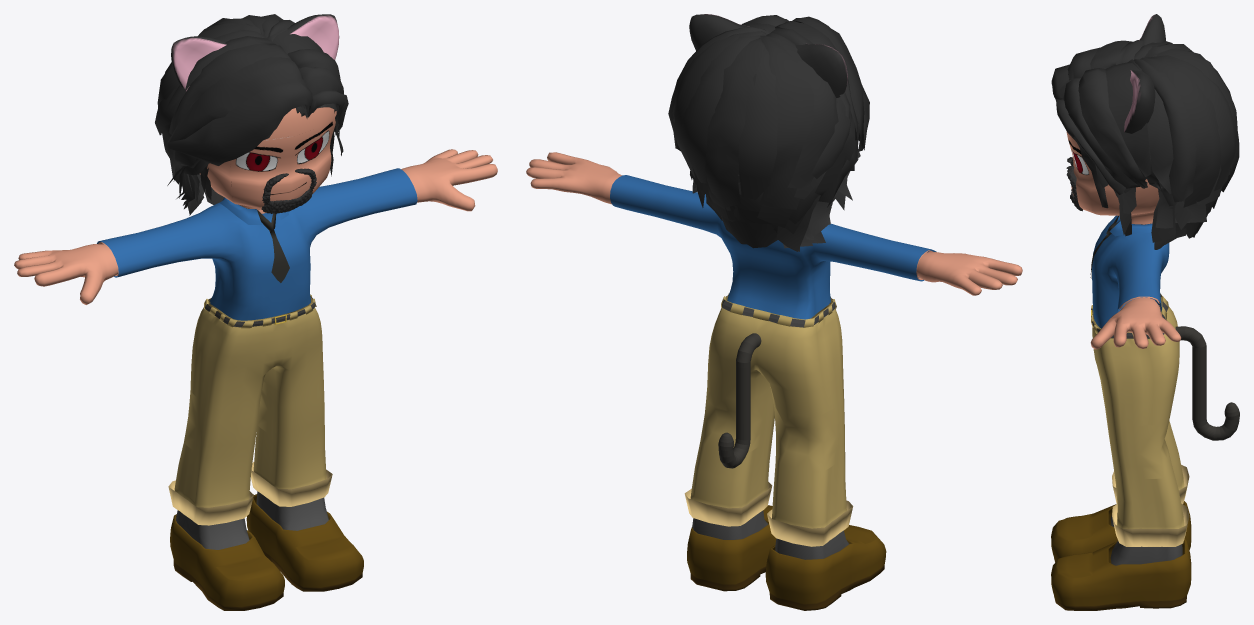
File: People Male .fbx
3 views of the same model, side by side, from view 1: azimuth 30°, elevation 25°; view 2: azimuth 150°, elevation 25°; view 3: azimuth 270°, elevation 25° (orthographic). The views are drawn at different scales.
Visible parts, largest first — view 1: Male model, Hair M; view 2: Male model, Hair M; view 3: Male model, Hair M.
Boxes of the visible parts, left/top/right/bottom form: Male model: left=14, top=107, right=497, bottom=610; Hair M: left=155, top=14, right=348, bottom=215; Male model: left=526, top=152, right=1022, bottom=610; Hair M: left=668, top=14, right=869, bottom=251; Male model: left=1051, top=131, right=1239, bottom=610; Hair M: left=1051, top=14, right=1239, bottom=249.
Size of the model in its own units: 243 by 264 by 84.89.
14 materials, 14 textured.
